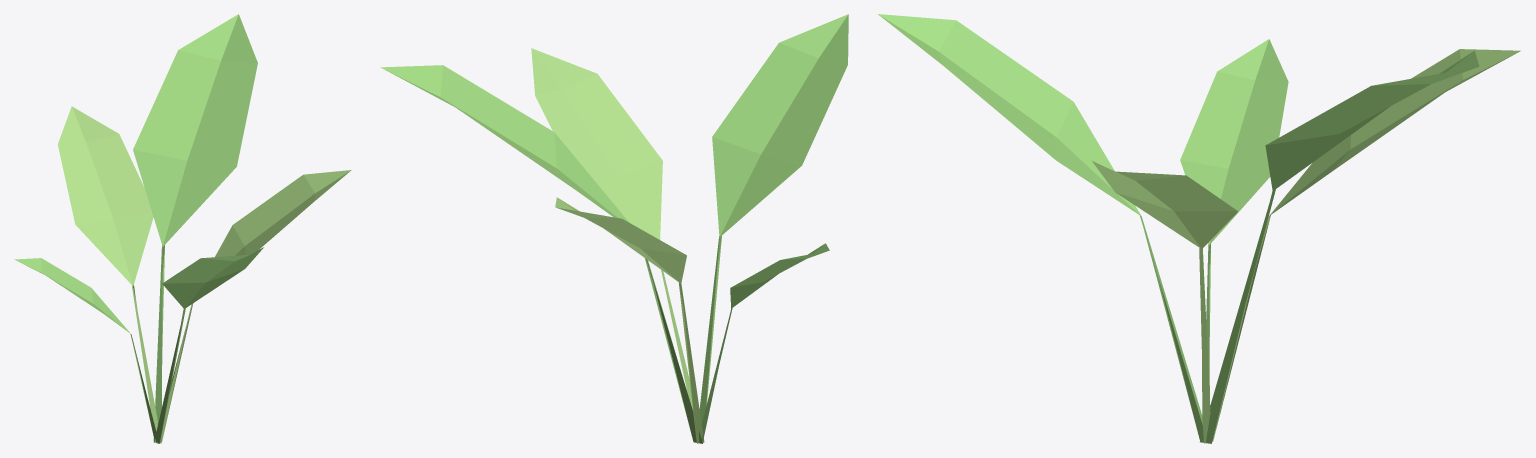
The model's file is Plant_j_OneS_10.fbx.
3 views of the same model, side by side, from view 1: azimuth 30°, elevation 25°; view 2: azimuth 150°, elevation 25°; view 3: azimuth 270°, elevation 25° (orthographic). The views are drawn at different scales.
Visible parts, largest first — view 1: Plant_j_OneS_10; view 2: Plant_j_OneS_10; view 3: Plant_j_OneS_10.
Boxes of the visible parts, box(x1,y1,x2,y2) form: Plant_j_OneS_10: box(14, 14, 351, 443); Plant_j_OneS_10: box(380, 14, 848, 443); Plant_j_OneS_10: box(878, 14, 1520, 443).
Size of the model in its own units: 0.3173 by 0.3349 by 0.3892.
